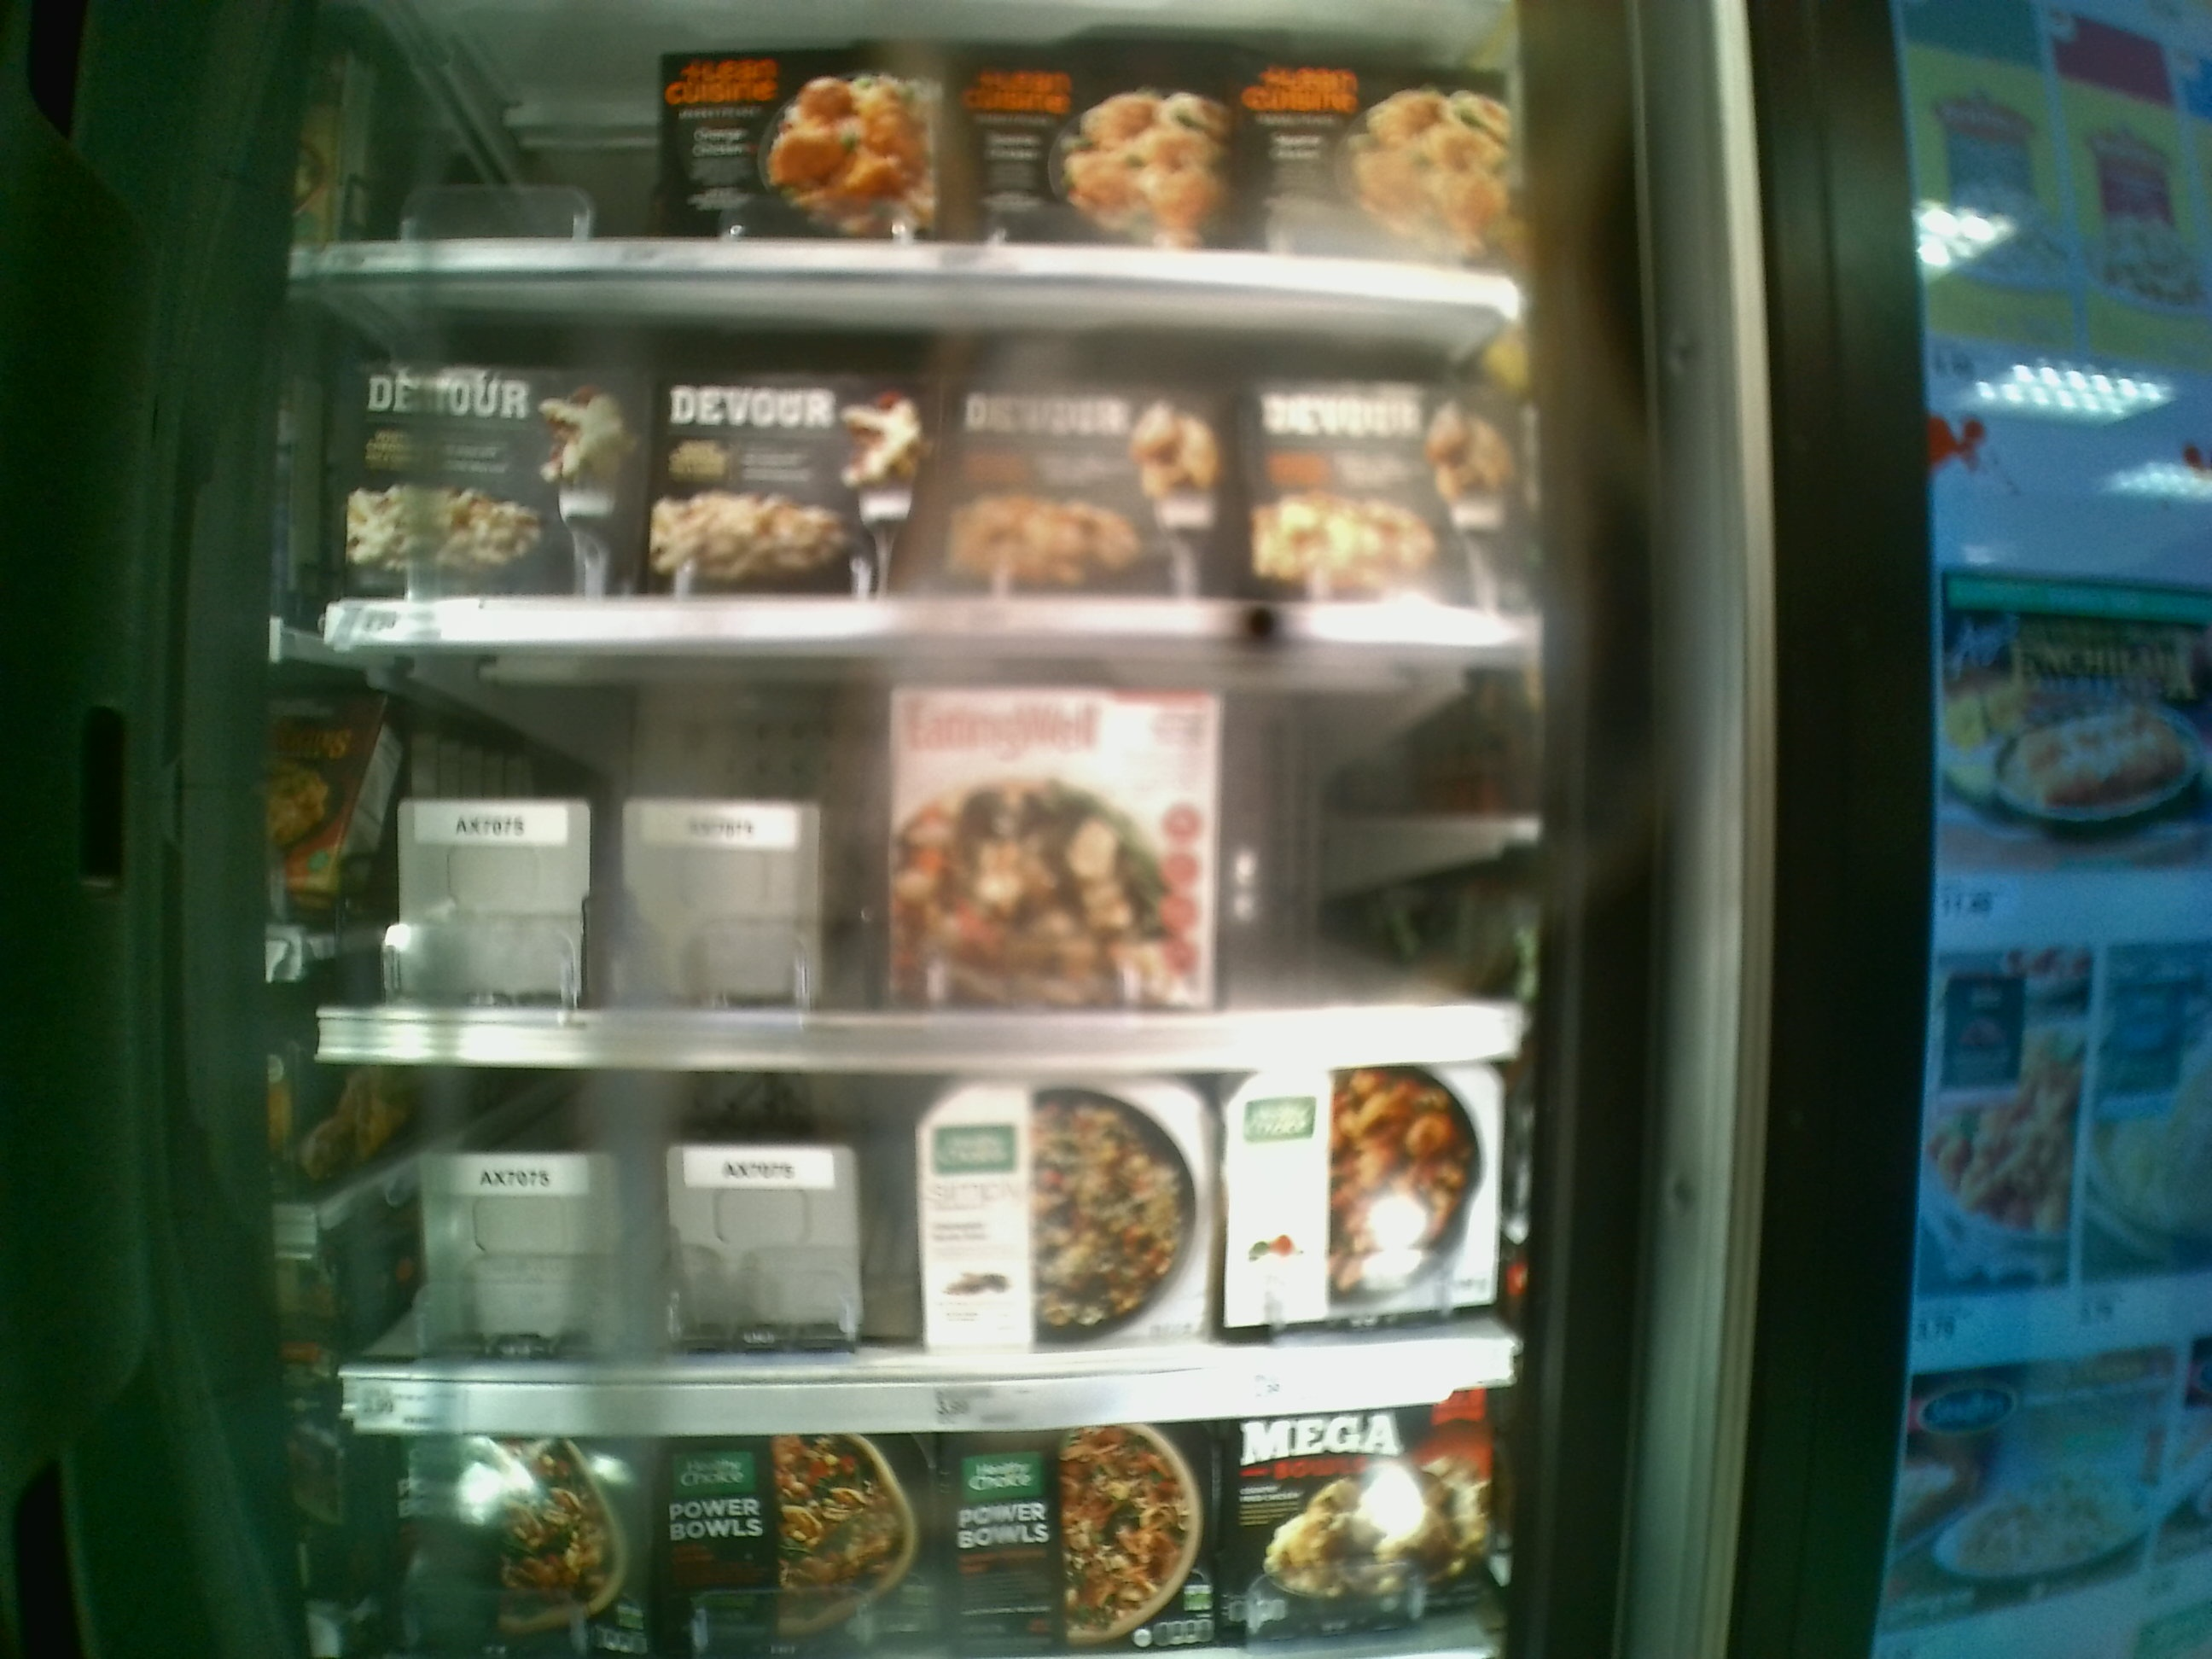shelf: (319, 641, 1524, 1065), (307, 270, 1554, 643), (331, 1054, 1541, 1434)
